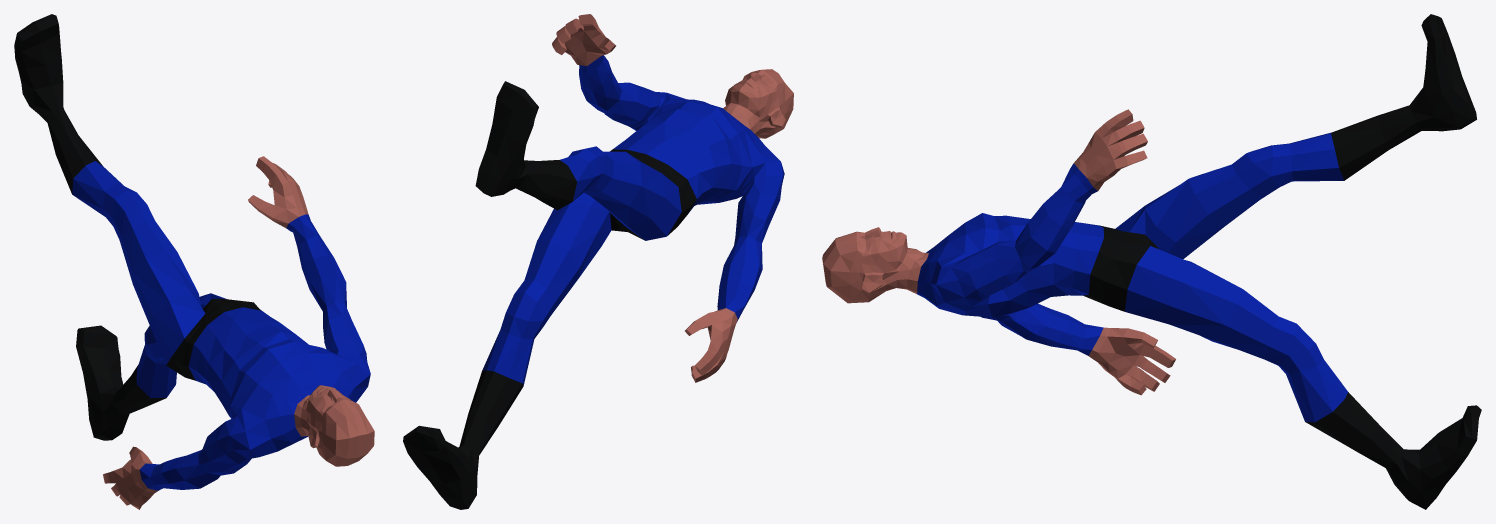
File: CaptainCodea_000030.obj
The picture shows the model from 3 angles, left to right: view 1: azimuth 30°, elevation 25°; view 2: azimuth 150°, elevation 25°; view 3: azimuth 270°, elevation 25°; orthographic projection. The views are drawn at different scales.
Visible parts, largest first — view 1: Low_Poly_Characte.000_Mesh.001; view 2: Low_Poly_Characte.000_Mesh.001; view 3: Low_Poly_Characte.000_Mesh.001.
Boxes of the visible parts, x1,y1,x2,y2 form: Low_Poly_Characte.000_Mesh.001: (14,14,374,509); Low_Poly_Characte.000_Mesh.001: (403,14,793,509); Low_Poly_Characte.000_Mesh.001: (822,14,1481,509).
Size of the model in its own units: 38.57 by 87.11 by 113.
